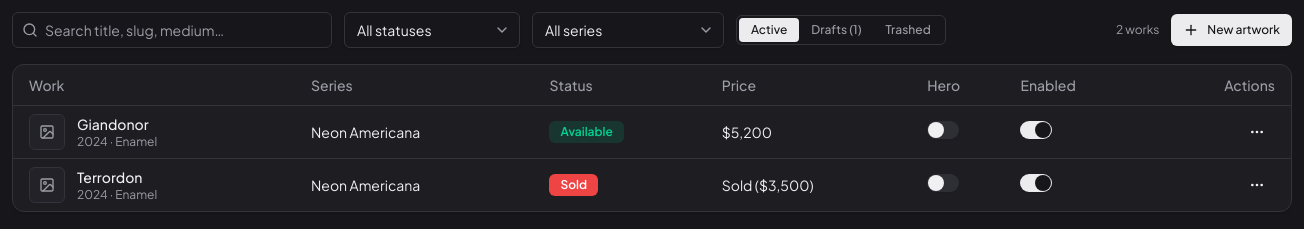
Test: <CatalogView/> draft contracts › Drafts tab shows the count badge and only draft rows
Click the button "Drafts (1)": x=836, y=30 [799, 18, 874, 42]
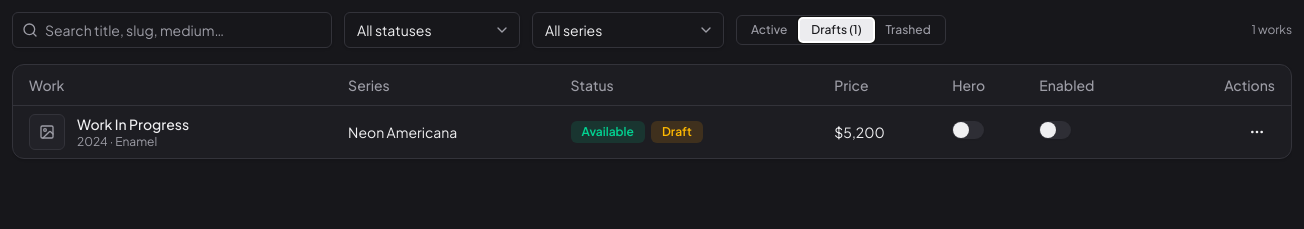
Expected: the text "Work In Progress" is shown, [77, 114, 189, 134]
Expected: the button "Giandonor" is gone
Expected: the text "Draft" is shown, [651, 120, 703, 142]
